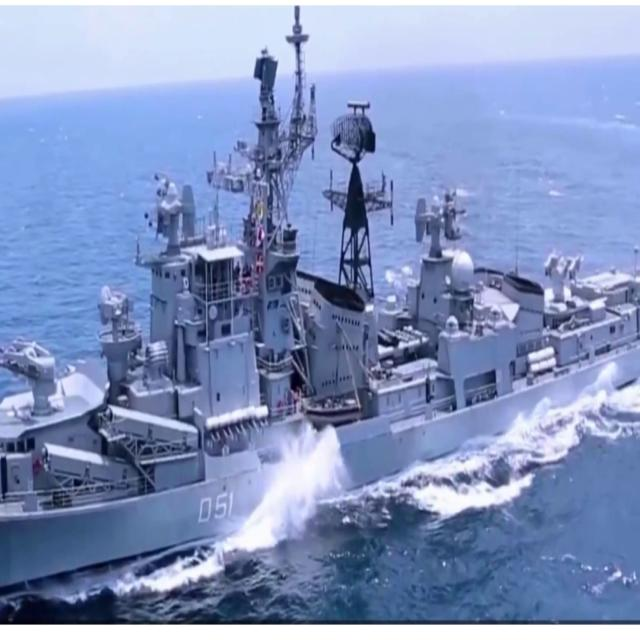OCR: (187, 481, 237, 532)
